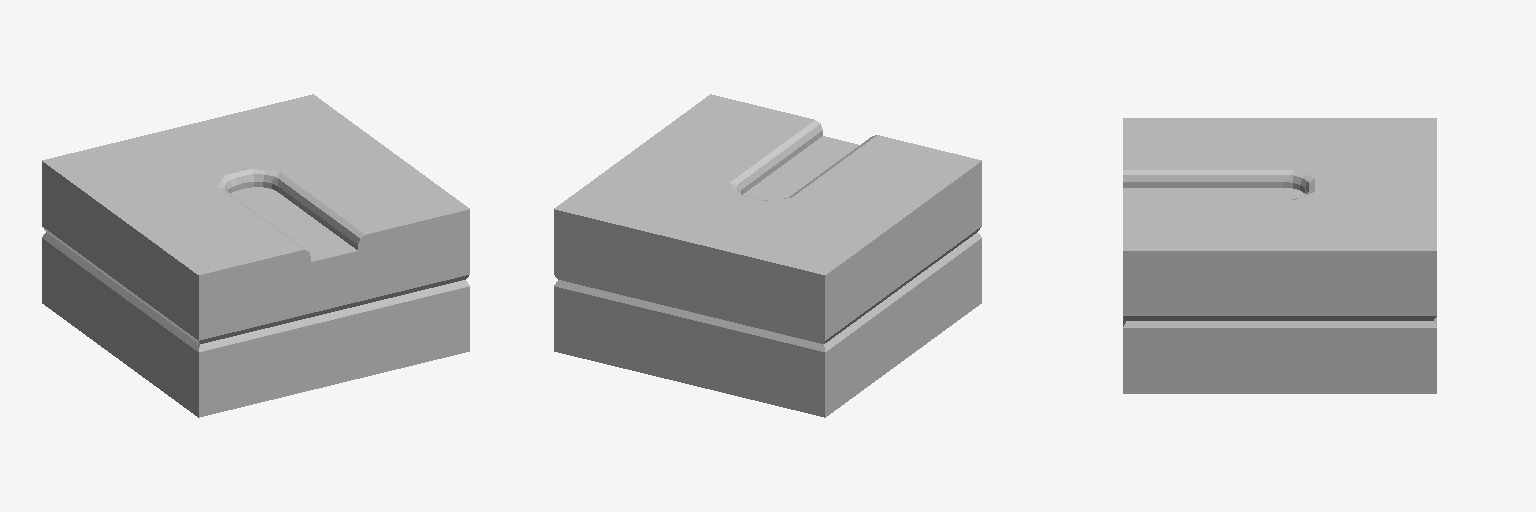
The model's file is square_forest_roadA_detail.obj.
3 renders of one model, left to right at view 1: azimuth 30°, elevation 25°; view 2: azimuth 150°, elevation 25°; view 3: azimuth 270°, elevation 25°, orthographic.
Visible parts, largest first — view 1: square_forest_roadA_detail_Cube.304; view 2: square_forest_roadA_detail_Cube.304; view 3: square_forest_roadA_detail_Cube.304.
Part boxes in pixels (left/top/right/bottom): square_forest_roadA_detail_Cube.304: left=42, top=94, right=469, bottom=417; square_forest_roadA_detail_Cube.304: left=554, top=94, right=981, bottom=417; square_forest_roadA_detail_Cube.304: left=1123, top=118, right=1436, bottom=393.
Size of the model in its own units: 2 by 1 by 2.